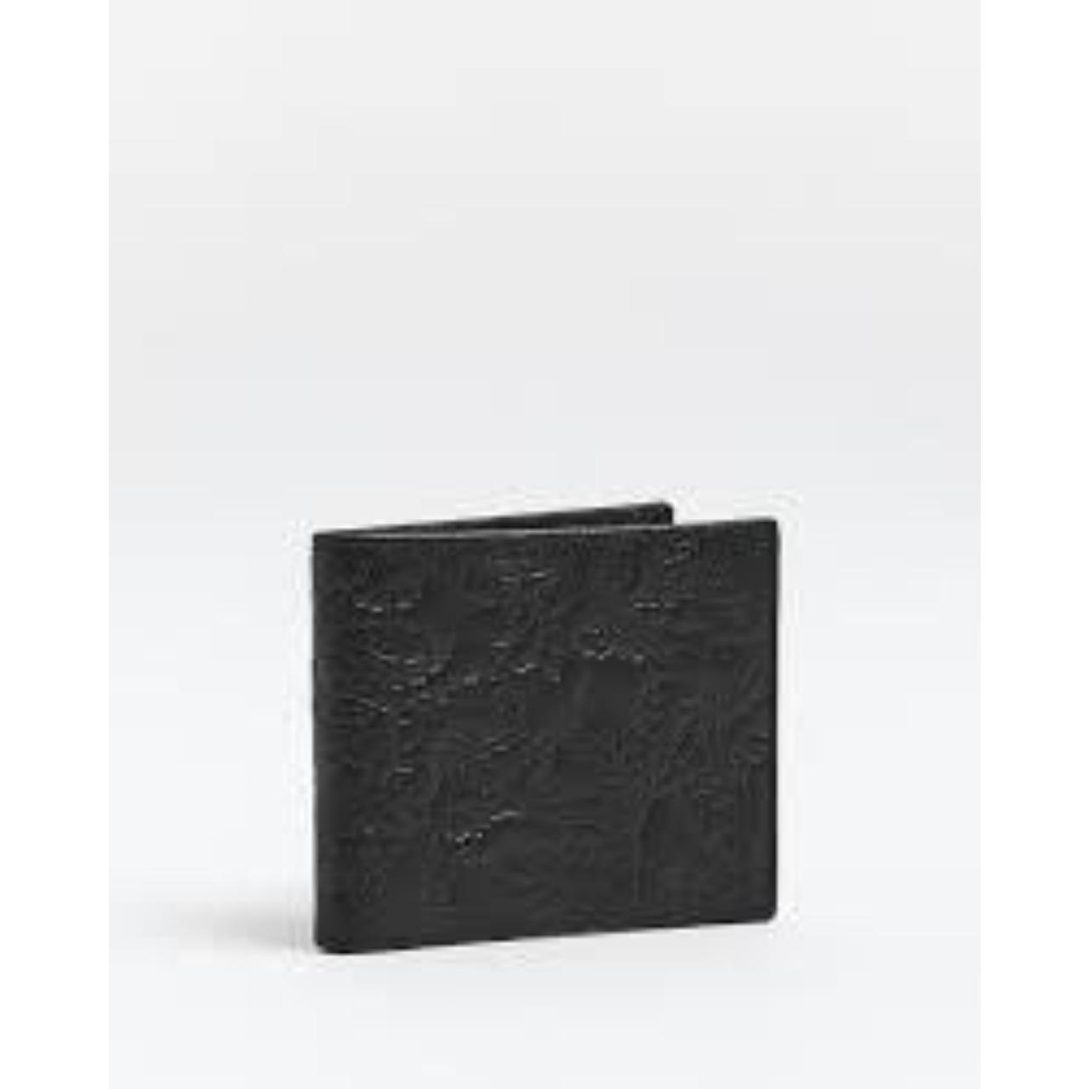wallet: (282, 475, 884, 969)
